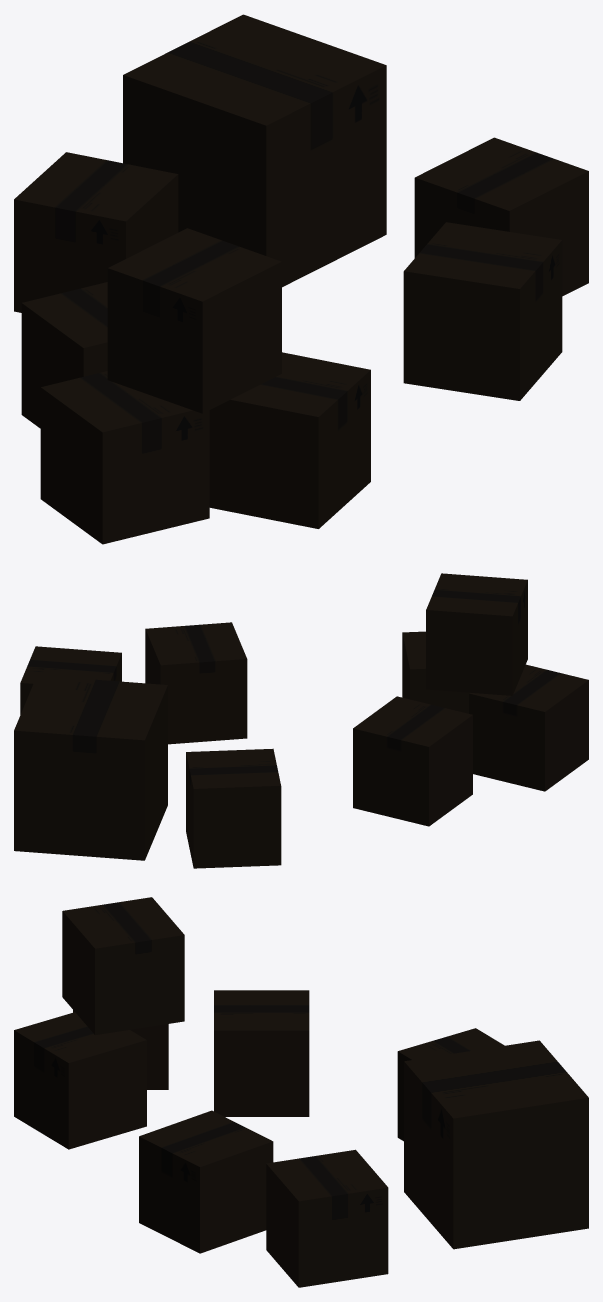
File: EmptyRoomInterior1.FBX
The picture shows the model from 3 angles, top to bottom: view 1: azimuth 30°, elevation 25°; view 2: azimuth 150°, elevation 25°; view 3: azimuth 270°, elevation 25°; orthographic projection. The views are drawn at different scales.
Parts seen in each view (by area): view 1: PackingBox_008, PackingBox_004, PackingBox_006, PackingBox_001, PackingBox_003, PackingBox_005, PackingBox_007, PackingBox_002; view 2: PackingBox_008, PackingBox_002, PackingBox_001, PackingBox_004, PackingBox_005, PackingBox_006, PackingBox_007, PackingBox_003; view 3: PackingBox_008, PackingBox_006, PackingBox_003, PackingBox_004, PackingBox_007, PackingBox_002, PackingBox_005, PackingBox_001.
Part boxes in pixels (box(x1,y1,x2,y2)): PackingBox_008: box(123, 14, 386, 287); PackingBox_004: box(107, 228, 281, 413); PackingBox_006: box(403, 222, 562, 400); PackingBox_001: box(40, 371, 209, 544); PackingBox_003: box(209, 352, 370, 528); PackingBox_005: box(14, 152, 178, 312); PackingBox_007: box(414, 137, 588, 296); PackingBox_002: box(21, 282, 107, 428); PackingBox_008: box(14, 675, 167, 860); PackingBox_002: box(353, 696, 472, 826); PackingBox_001: box(469, 664, 588, 791); PackingBox_004: box(426, 573, 527, 695); PackingBox_005: box(186, 748, 281, 868); PackingBox_006: box(145, 622, 247, 744); PackingBox_007: box(20, 646, 121, 714); PackingBox_003: box(402, 631, 469, 713); PackingBox_008: box(404, 1040, 588, 1249); PackingBox_006: box(139, 1110, 273, 1253); PackingBox_003: box(14, 1012, 146, 1149); PackingBox_004: box(62, 897, 184, 1035); PackingBox_007: box(266, 1149, 388, 1287); PackingBox_002: box(214, 990, 309, 1116); PackingBox_005: box(397, 1028, 504, 1141); PackingBox_001: box(73, 1010, 168, 1089).
Bounding box in the file's own units: 282 × 95.98 × 288.
1 material, 1 textured.
